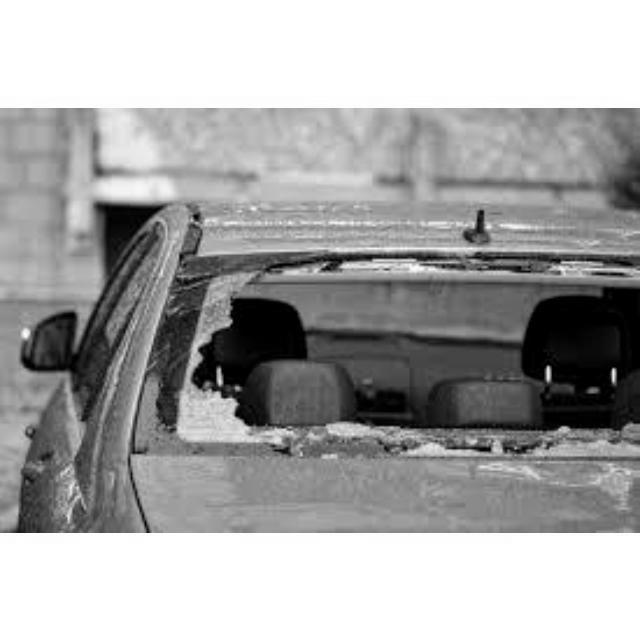Rear-windscreen-Damage: (96, 231, 638, 463)
